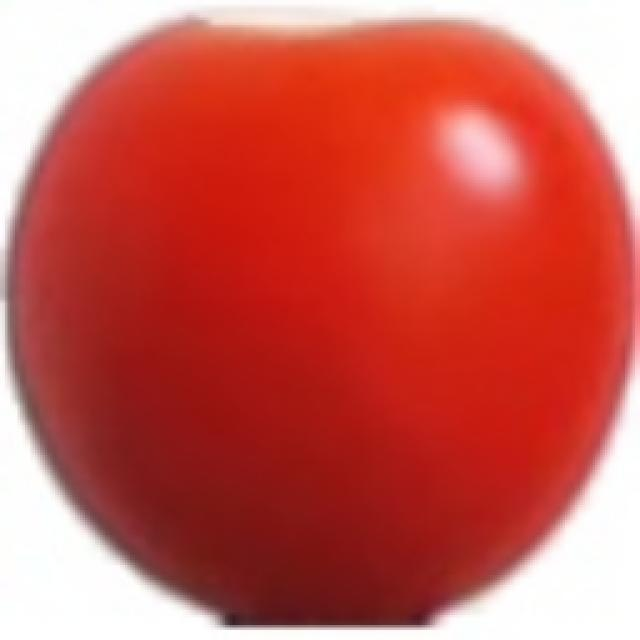tomato: (5, 17, 638, 630)
